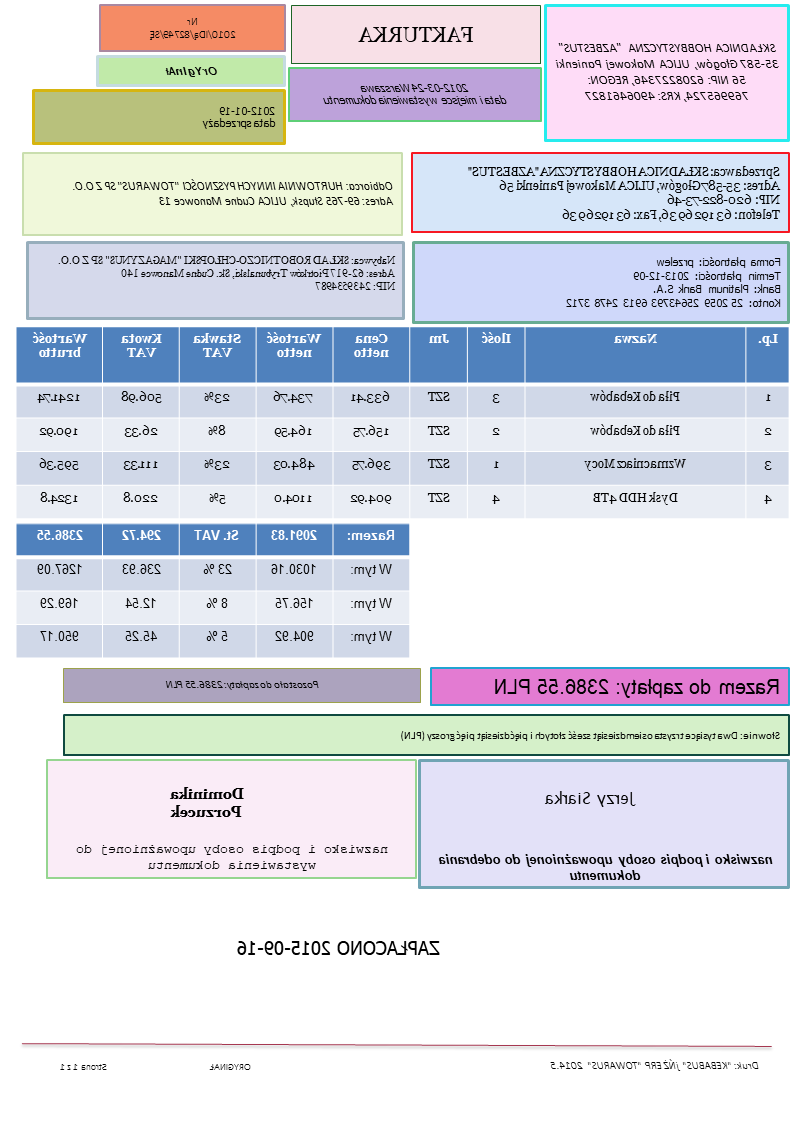Table: (14, 324, 791, 520), (15, 520, 412, 660)
TextBox: (463, 160, 784, 226), (552, 38, 783, 105), (56, 250, 399, 294), (562, 252, 784, 313), (435, 851, 775, 883), (72, 839, 392, 873), (70, 177, 396, 210), (397, 727, 783, 745), (493, 674, 782, 698), (320, 79, 511, 109), (232, 936, 443, 958), (546, 1056, 761, 1074), (165, 782, 248, 823), (56, 1058, 255, 1075), (358, 22, 477, 46), (147, 13, 240, 43), (163, 676, 322, 693), (541, 786, 641, 811), (201, 101, 278, 132), (163, 60, 221, 80)
